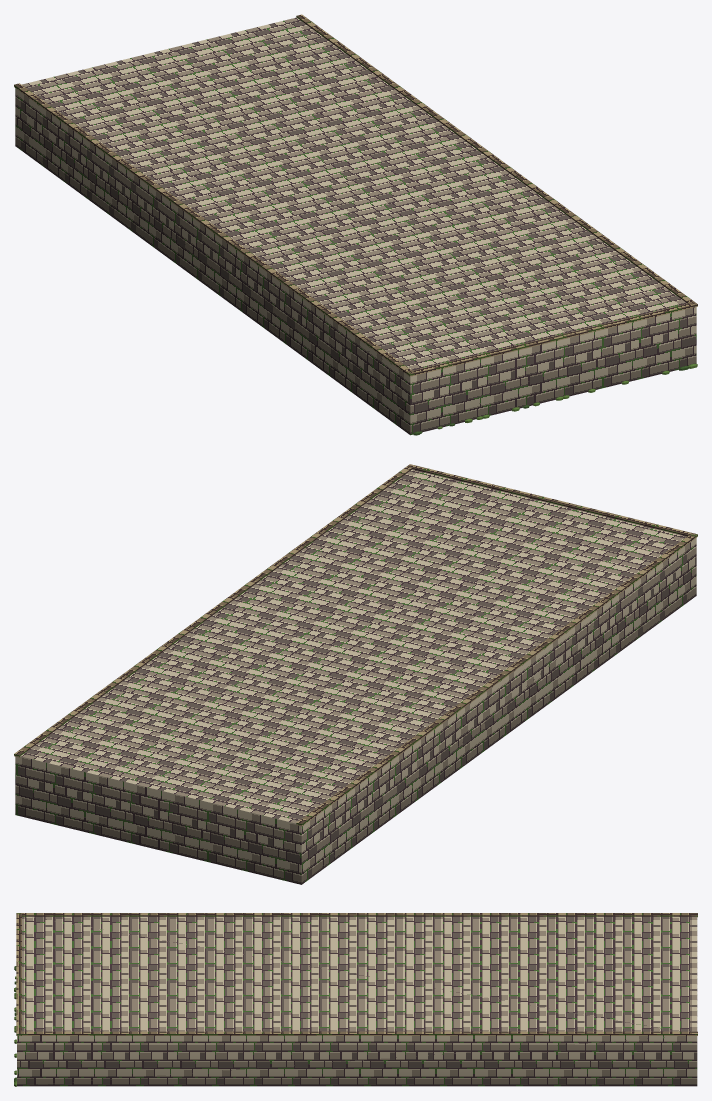
The model's file is scene_wall_e.glb.
3 views of the same model, one above another, from view 1: azimuth 30°, elevation 25°; view 2: azimuth 150°, elevation 25°; view 3: azimuth 270°, elevation 25° (orthographic). The views are drawn at different scales.
Visible parts, largest first — view 1: scene_wall_e; view 2: scene_wall_e; view 3: scene_wall_e.
Boxes of the visible parts, x1,y1,x2,y2 form: scene_wall_e: (14,14,697,435); scene_wall_e: (14,464,697,884); scene_wall_e: (14,913,697,1086).
Size of the model in its own units: 18.1 by 3.77 by 43.24.
Materials: 2 (1 with a texture image).
